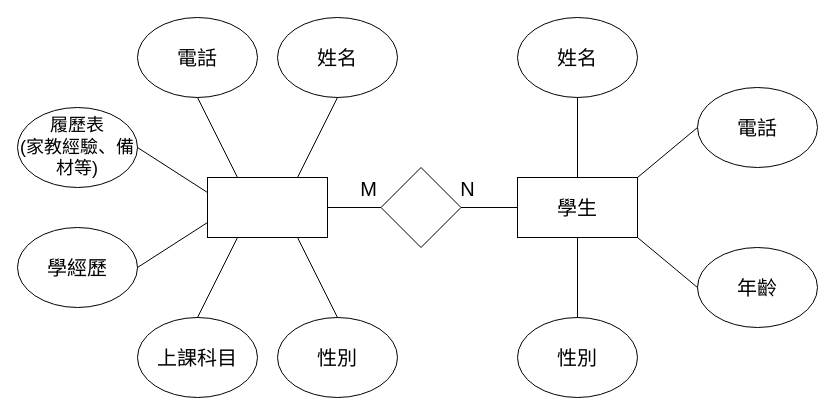
This 835x415 diagram has some shape labels left out. Here are the shapes that lost their labels. From the top down, the centre of each, then its label:
pixel 267 207: 家教
pixel 420 207: 授課
